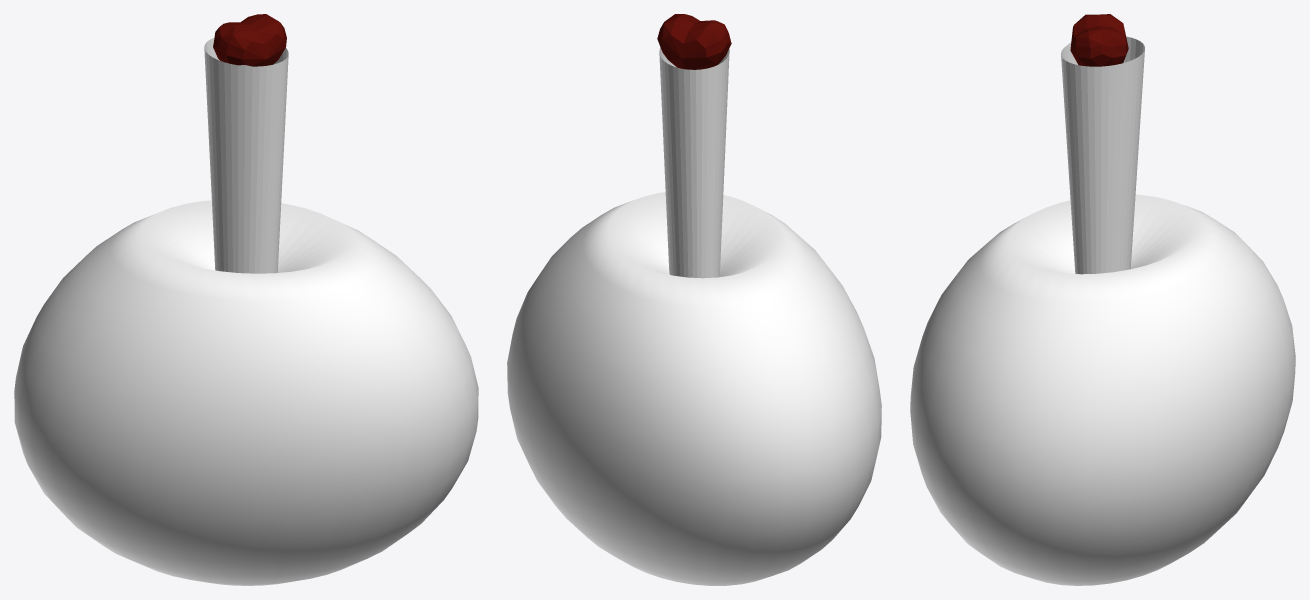
The model's file is Pocion de Salud.fbx.
3 views of the same model, side by side, from view 1: azimuth 30°, elevation 25°; view 2: azimuth 150°, elevation 25°; view 3: azimuth 270°, elevation 25° (orthographic).
Parts seen in each view (by area): view 1: Cloner_003; view 2: Cloner_003; view 3: Cloner_003.
Boxes of the visible parts, x1,y1,x2,y2 form: Cloner_003: (14, 14, 478, 585); Cloner_003: (507, 14, 881, 585); Cloner_003: (910, 14, 1295, 585).
Bounding box in the file's own units: 79.75 × 111 × 71.62.
